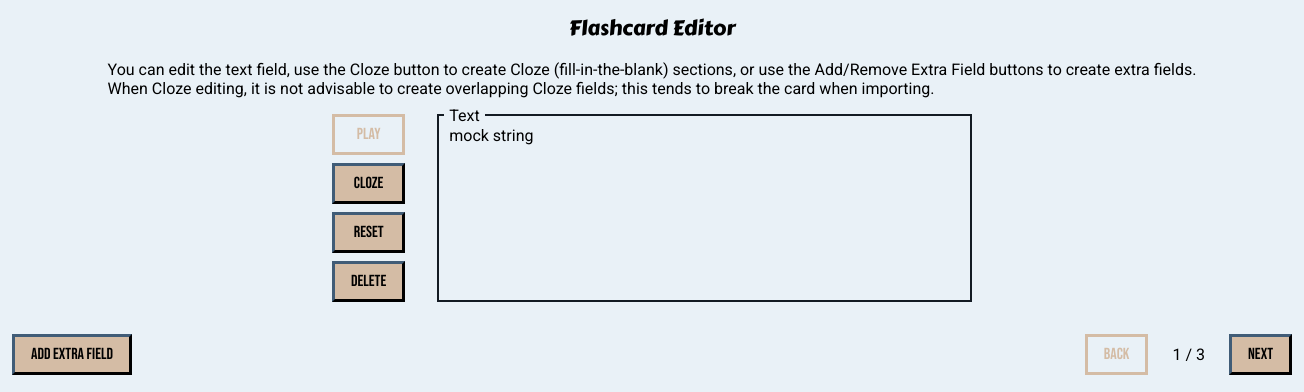
Scenario: FlashcardEditor › changes next button to finish on last section
What coordinates should you click on to do the following:
click the button "Next"
I would click on:
 (1260, 354)
Its box is [1229,334,1292,375].
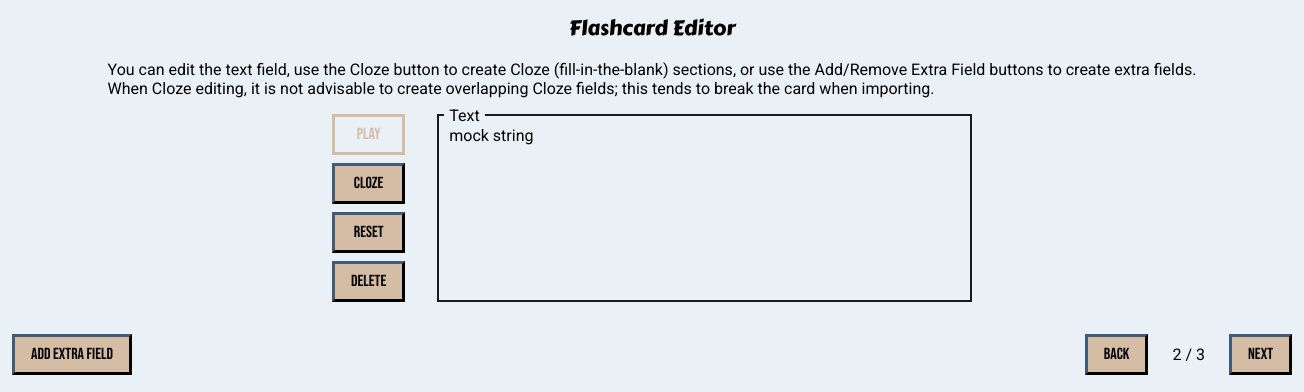
What coordinates should you click on to do the following:
click the button "Next"
I would click on:
 (1260, 354)
Its box is [1229,334,1292,375].
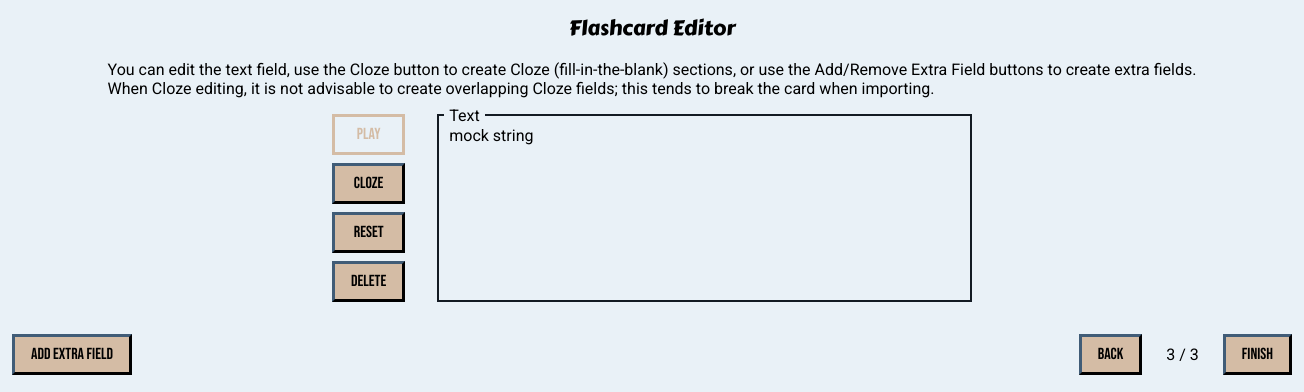
Expected: the button "Finish" is shown, [1223,334,1292,375]
Expected: the button "Finish" no longer shows "Next", [1223,334,1292,375]
